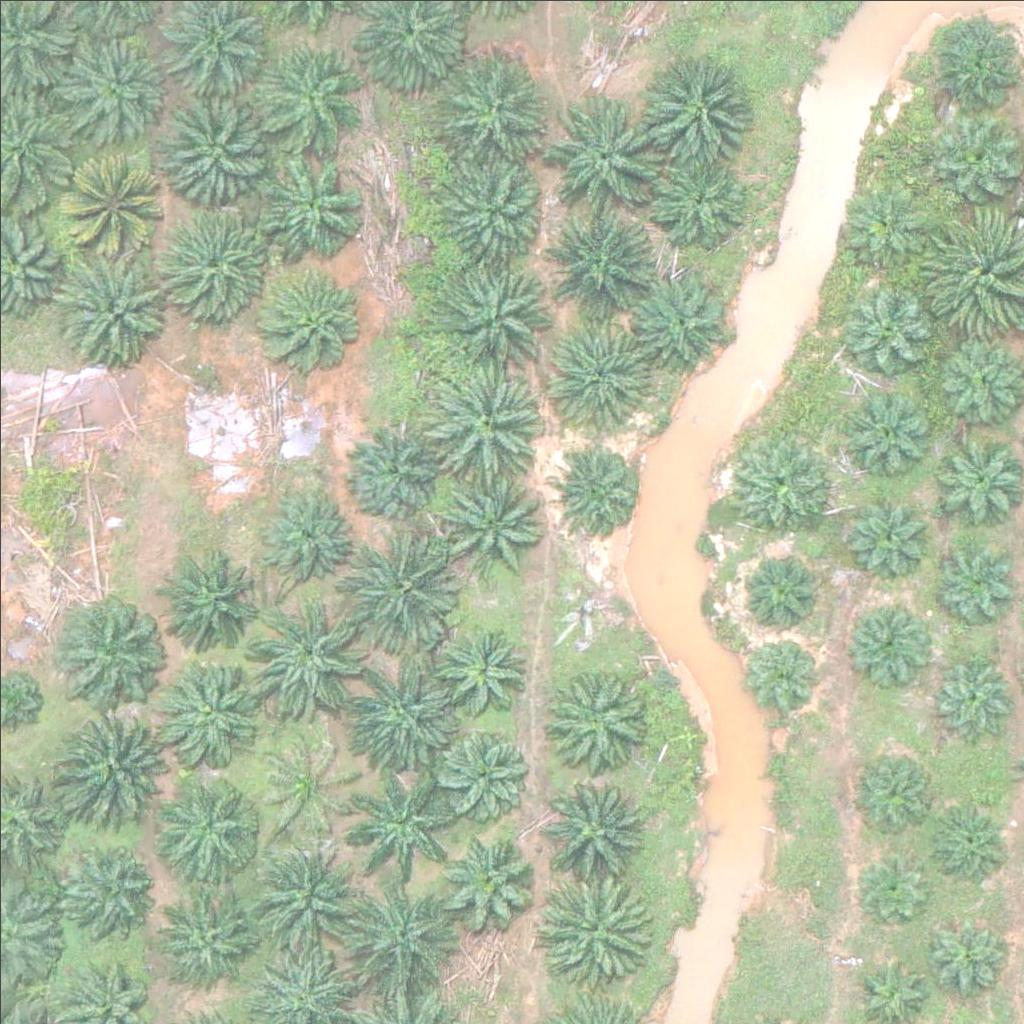Kelapa_Sawit: (431, 158, 544, 272), (343, 530, 456, 644), (440, 253, 553, 367), (542, 317, 655, 431), (156, 86, 269, 199), (254, 144, 367, 257), (643, 47, 756, 160), (56, 706, 169, 819), (342, 657, 455, 770), (540, 876, 653, 989), (252, 38, 364, 152), (149, 655, 261, 769), (247, 831, 359, 945), (254, 266, 366, 380), (544, 209, 656, 323), (534, 766, 646, 880), (440, 56, 552, 169), (552, 99, 664, 212), (58, 248, 170, 361), (168, 204, 280, 317), (55, 590, 167, 703), (251, 601, 363, 714), (346, 770, 458, 883), (342, 885, 454, 998), (430, 477, 542, 590), (426, 363, 538, 476), (71, 39, 171, 140), (649, 149, 749, 250), (62, 836, 162, 937), (253, 740, 353, 841), (346, 422, 446, 523), (436, 722, 536, 823), (432, 626, 532, 727), (543, 670, 643, 771), (730, 437, 830, 538), (838, 376, 938, 477), (630, 269, 730, 370), (65, 146, 165, 246), (160, 550, 260, 650), (156, 879, 256, 979), (163, 778, 263, 878), (257, 477, 357, 577), (439, 830, 539, 930), (923, 912, 1011, 1001), (853, 746, 941, 834), (839, 185, 927, 273), (930, 536, 1018, 624), (555, 449, 642, 537), (925, 798, 1012, 886), (932, 650, 1019, 738), (843, 593, 930, 681), (736, 547, 823, 635), (842, 277, 929, 365), (847, 498, 934, 586), (854, 845, 929, 921), (745, 632, 820, 708)
